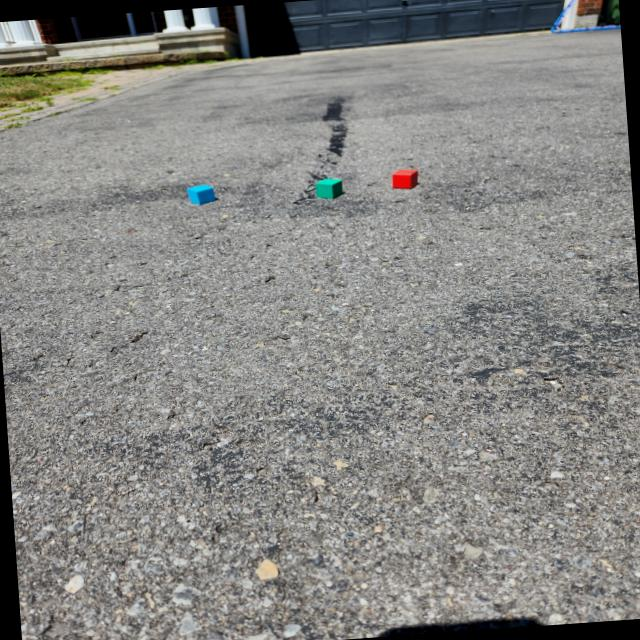bluecube: (187, 183, 215, 205)
green cube: (314, 175, 342, 199)
red cube: (392, 167, 418, 189)
